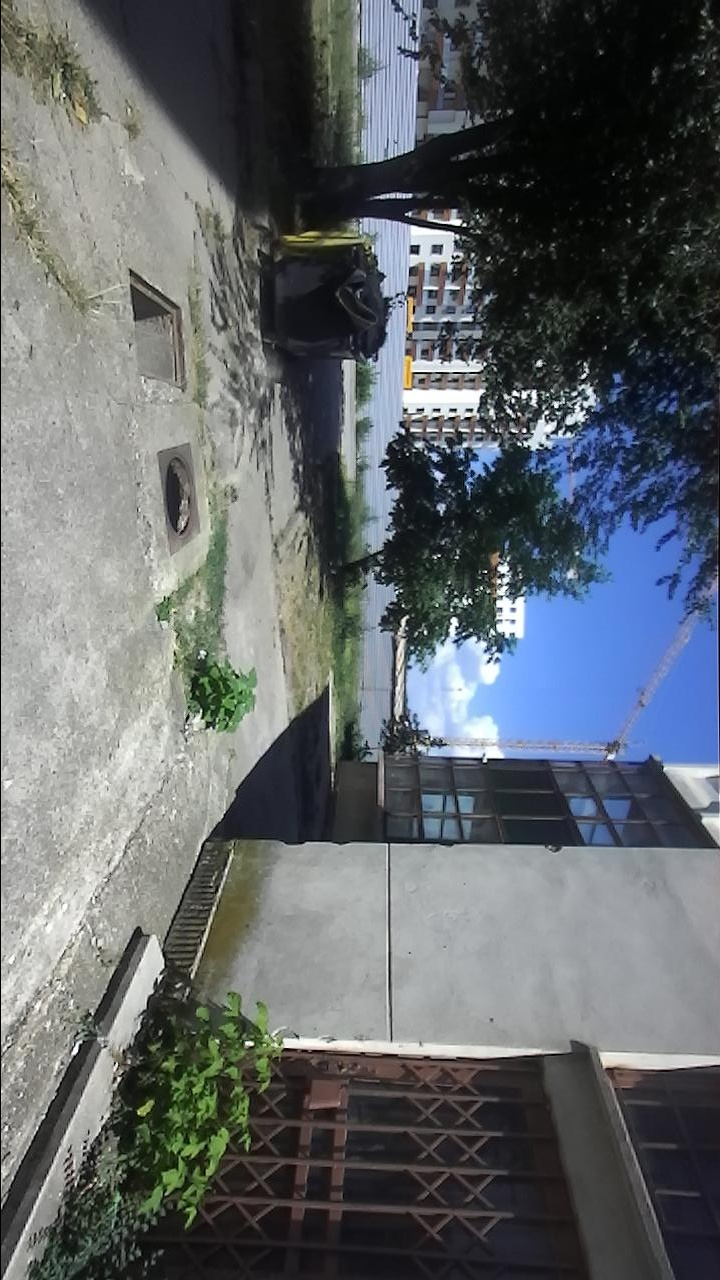drain: (123, 264, 190, 394), (159, 451, 200, 539)
